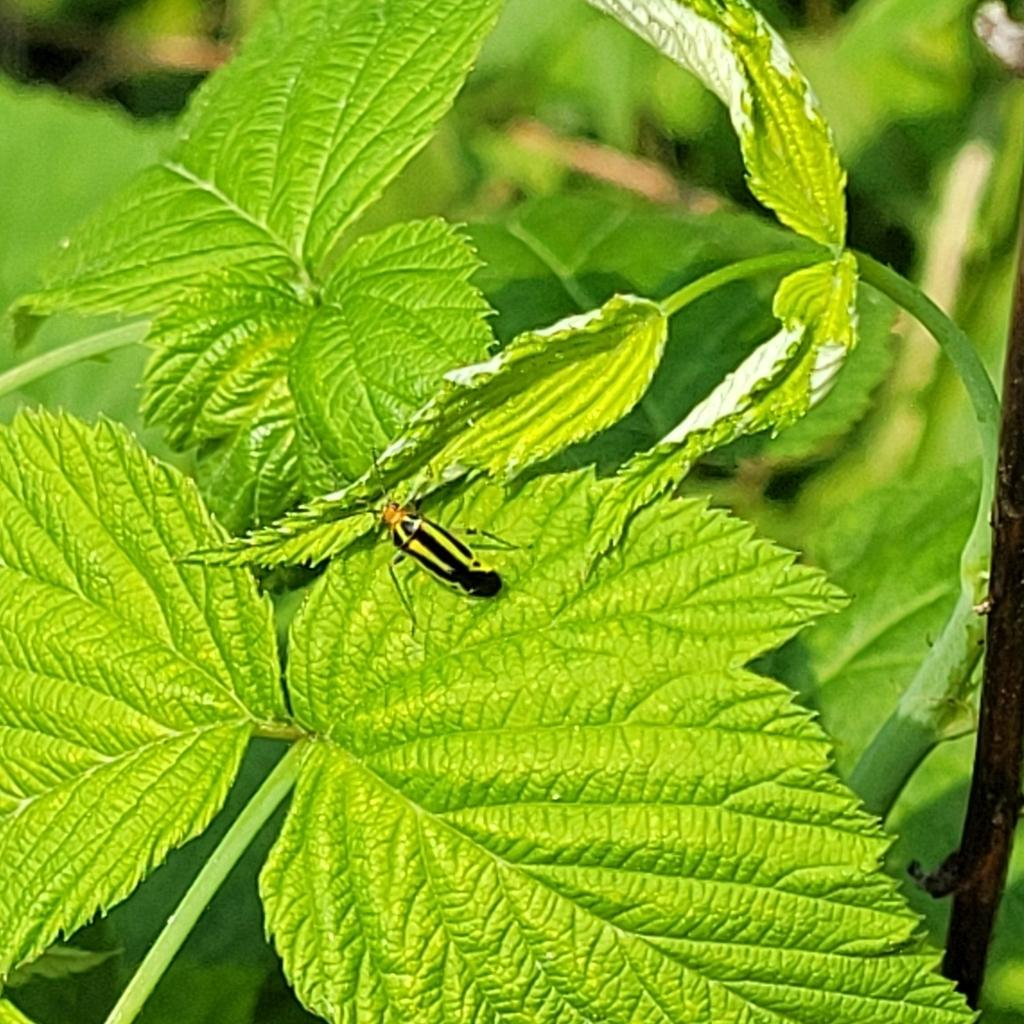plant_bugs: (306, 416, 561, 654)
